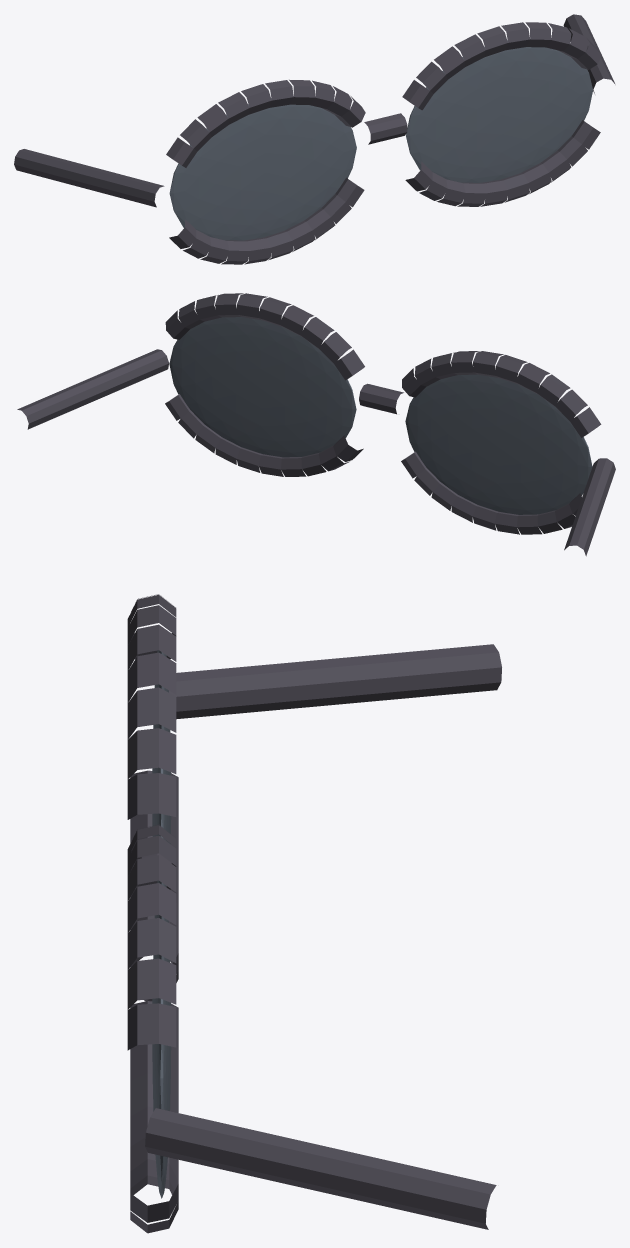
Rendered from oculos_escuros.glb.
The picture shows the model from 3 angles, top to bottom: view 1: azimuth 30°, elevation 25°; view 2: azimuth 150°, elevation 25°; view 3: azimuth 270°, elevation 25°; orthographic projection. The views are drawn at different scales.
Parts seen in each view (by area): view 1: lente_0, lente_1, haste-1, haste1, ponte, armação_07, armação_17, armação_08, armação_18, armação_09, armação_19, armação_06 (+33 smaller); view 2: lente_1, lente_0, haste1, haste-1, ponte, armação_08, armação_17, armação_18, armação_07, armação_09, armação_19, armação_16 (+31 smaller); view 3: haste1, haste-1, armação_12, armação_02, armação_13, armação_03, armação_04, lente_1, armação_14, armação_05, armação_15, armação_06 (+6 smaller).
Part boxes in pixels (x1,y1,x2,y2): lente_0: [169, 98, 356, 240]; lente_1: [406, 38, 592, 182]; haste-1: [14, 149, 164, 207]; haste1: [563, 14, 615, 93]; ponte: [364, 113, 407, 144]; armação_07: [241, 84, 271, 114]; armação_17: [477, 26, 507, 56]; armação_08: [218, 92, 249, 124]; armação_18: [454, 34, 485, 66]; armação_09: [197, 104, 228, 136]; armação_19: [434, 46, 465, 79]; armação_06: [265, 80, 293, 107]; lente_1: [169, 317, 356, 457]; lente_0: [405, 374, 592, 514]; haste1: [17, 349, 168, 429]; haste-1: [564, 458, 615, 556]; ponte: [359, 383, 403, 414]; armação_08: [516, 363, 549, 394]; armação_17: [259, 297, 291, 326]; armação_18: [281, 305, 313, 336]; armação_07: [495, 355, 527, 384]; armação_09: [537, 374, 570, 406]; armação_19: [301, 317, 334, 349]; armação_16: [236, 293, 267, 320]; haste1: [145, 1108, 496, 1229]; haste-1: [169, 644, 501, 719]; armação_12: [127, 1003, 176, 1050]; armação_02: [127, 773, 176, 819]; armação_13: [127, 958, 176, 1009]; armação_03: [127, 728, 176, 779]; armação_04: [127, 687, 176, 739]; lente_1: [152, 880, 171, 1198]; armação_14: [127, 918, 176, 969]; armação_05: [127, 652, 176, 702]; armação_15: [127, 883, 176, 933]; armação_06: [127, 624, 176, 671].
Bounding box in the file's own units: 0.0062 × 0.00181 × 0.00176.
